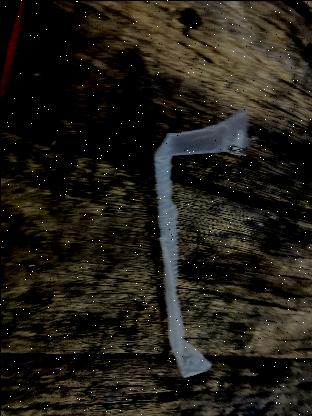Others: (149, 107, 253, 379)
